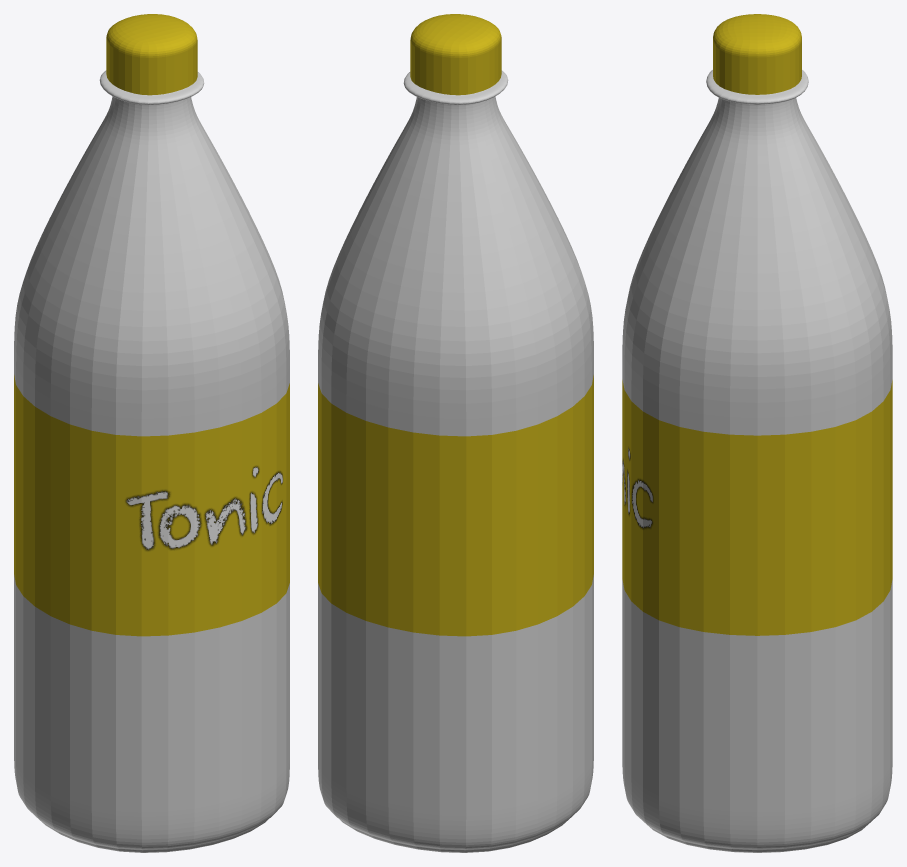
The model's file is Tonic.fbx.
The picture shows the model from 3 angles, left to right: view 1: azimuth 30°, elevation 25°; view 2: azimuth 150°, elevation 25°; view 3: azimuth 270°, elevation 25°; orthographic projection.
Parts seen in each view (by area): view 1: Tonic, Tonic_open; view 2: Tonic, Tonic_open; view 3: Tonic, Tonic_open.
Part boxes in pixels (x1,y1,x2,y2): Tonic: (14, 14, 289, 852); Tonic_open: (102, 71, 201, 100); Tonic: (318, 14, 593, 852); Tonic_open: (406, 71, 505, 100); Tonic: (622, 14, 892, 852); Tonic_open: (709, 71, 805, 99).
Bounding box in the file's own units: 182 × 583 × 182.
2 materials, 1 textured.
